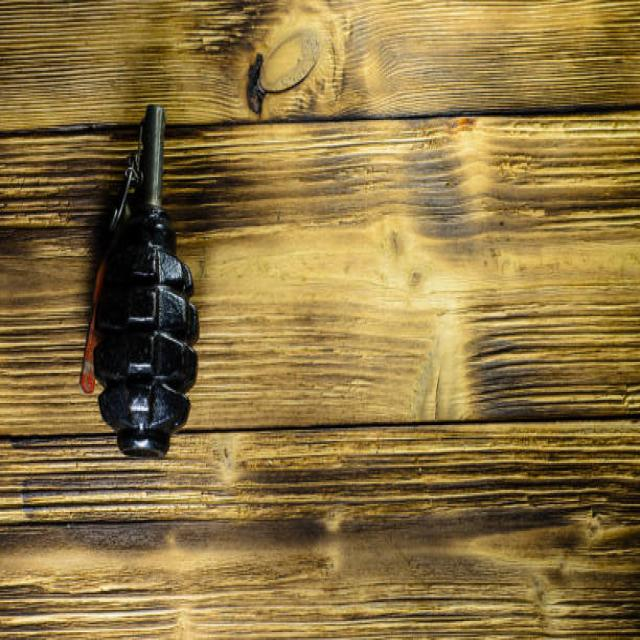grenade: (75, 97, 212, 465)
